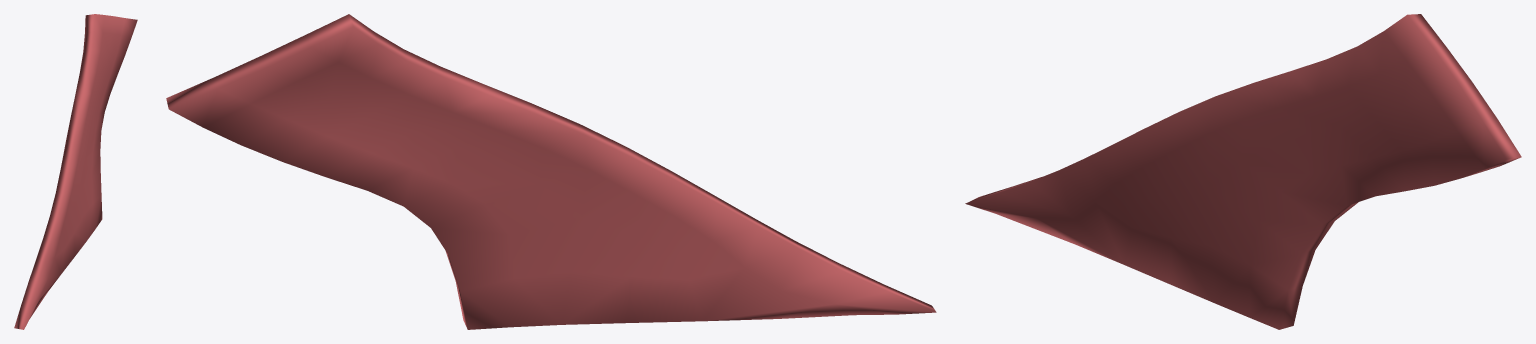
The picture shows the model from 3 angles, left to right: view 1: azimuth 30°, elevation 25°; view 2: azimuth 150°, elevation 25°; view 3: azimuth 270°, elevation 25°; orthographic projection. The views are drawn at different scales.
Parts seen in each view (by area): view 1: 右侧髂耻弓; view 2: 右侧髂耻弓; view 3: 右侧髂耻弓.
Part boxes in pixels (x1,y1,x2,y2): 右侧髂耻弓: [14, 14, 137, 329]; 右侧髂耻弓: [166, 14, 936, 329]; 右侧髂耻弓: [965, 14, 1521, 329].
Size of the model in its own units: 0.043 by 0.0297 by 0.0411.
